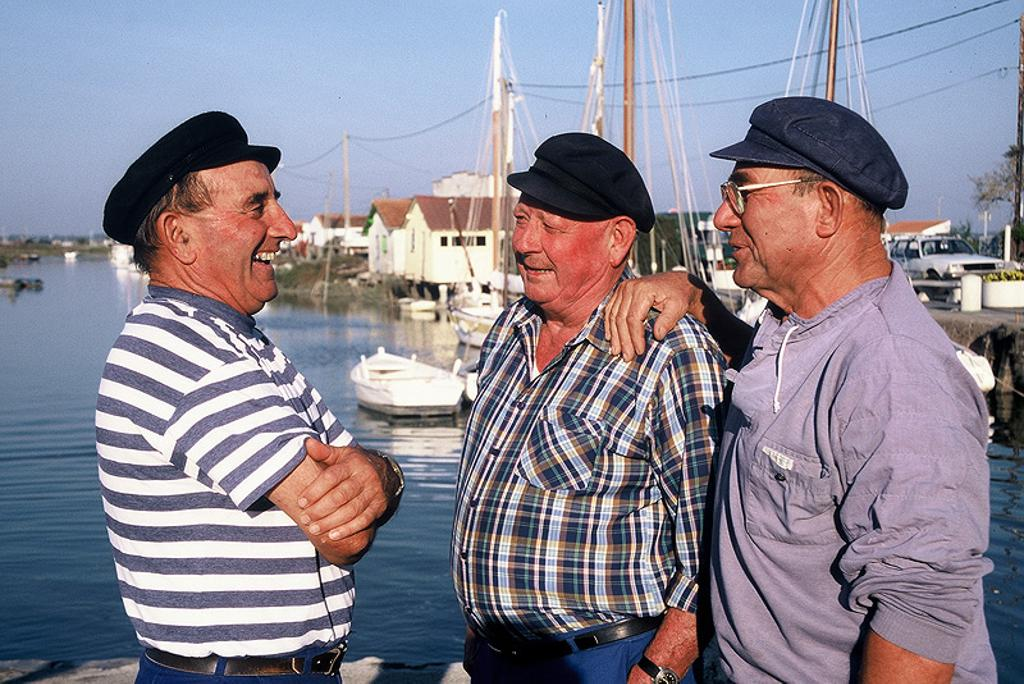face: (718, 148, 812, 288), (200, 160, 288, 306), (512, 182, 612, 306)
